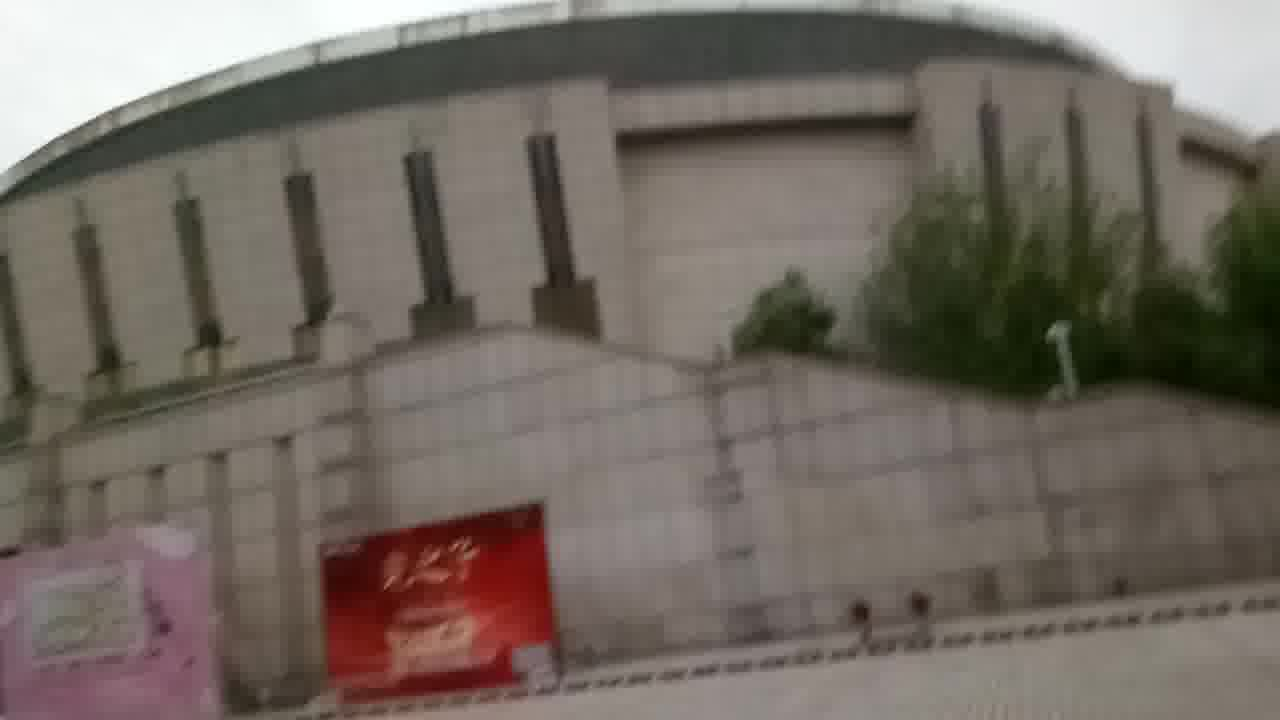zhongtiww: (8, 4, 1280, 633)
